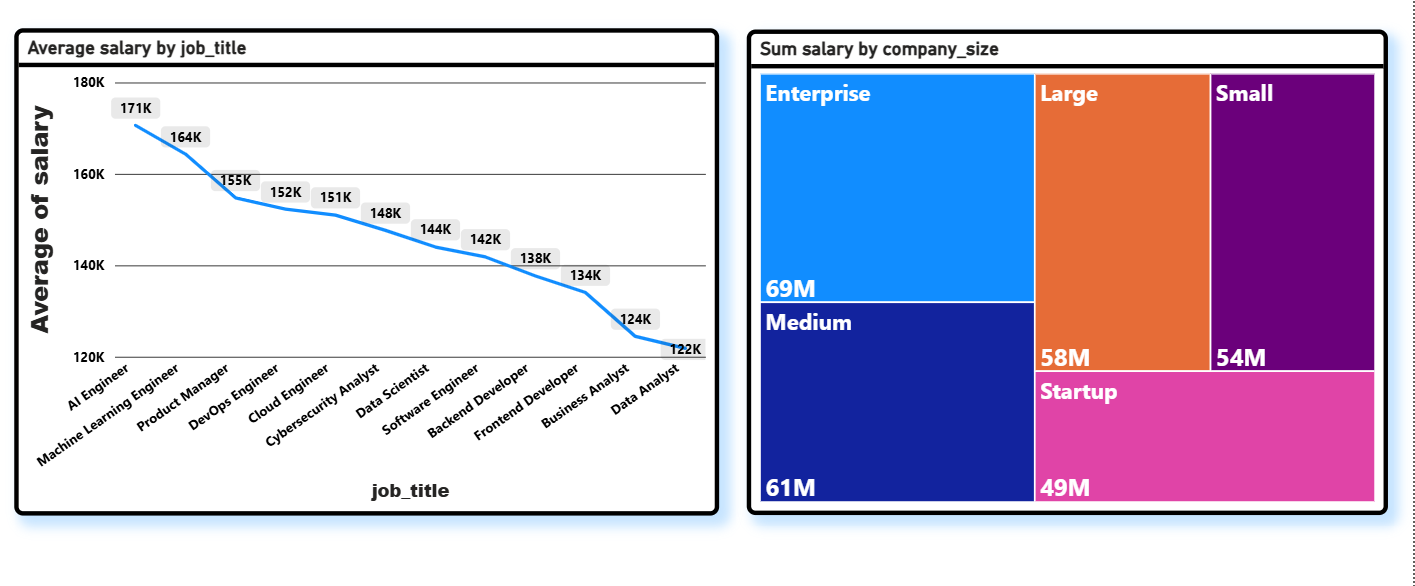

What the dashboard file says about the page in this screenshot:
{"tool":"powerbi","page":{"name":"Page 3","canvas":[1280,720],"ordinal":2},"visuals":[{"type":"lineChart","title":"Average salary by job_title","fields":{"Y":["Avg(job_salary_prediction_dataset.salary)"],"Category":["job_salary_prediction_dataset.job_title"]},"box":[15.1,32.6,637.2,440.7],"z":0},{"type":"treemap","title":"Sum  salary by company_size","fields":{"Values":["Sum(job_salary_prediction_dataset.salary)"],"Group":["job_salary_prediction_dataset.company_size"]},"box":[676.7,33.7,580.2,439.5],"z":1000}]}

Visuals, with their boxes on the page's 1280x720 design canvas (x1, y1, x2, y2). These are canvas units, not pixel positions in the 1415x586 screenshot, which may show the page scaled, cropped or inside an application window:
"Average salary by job_title" lineChart: <region>15, 33, 652, 473</region>
"Sum  salary by company_size" treemap: <region>677, 34, 1257, 473</region>
